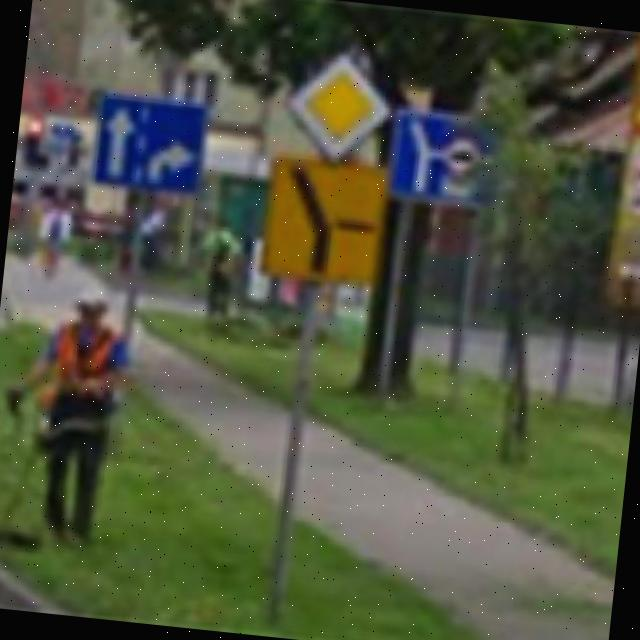Droga z pierwszenstwem: (276, 45, 399, 173)
